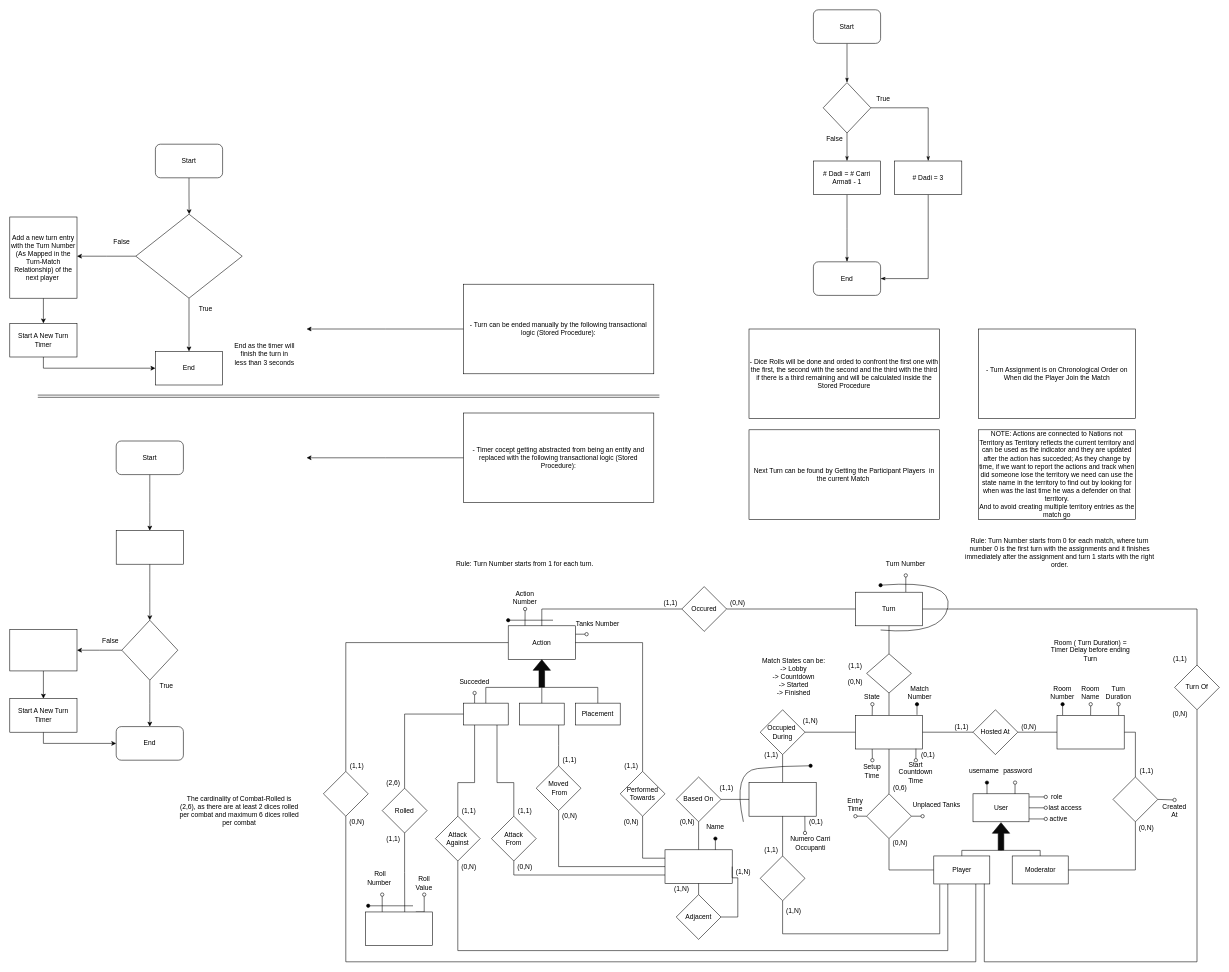
Image size: 1229x972. Some labels were removed from this diagram. Here are the shapes that lost their labels. From the top down, the centre of each, then its label:
At [847,107]: "# Carri Armati > 3".
At [188,256]: "Is difference between start-time and timer delay (For the timer) is < 3".
At [149,547]: "Wait For Delay (Turn Period)".
At [43,650]: "Create a new turn entry with the playerID of the next turn".
At [149,650]: "Check if the turn was passed".
At [888,673]: "Part Of".
At [485,714]: "Combat".
At [541,714]: "Movement".
At [889,732]: "Match".
At [1090,732]: "Room".
At [345,793]: "Performed By".
At [782,799]: "Territory (Ocuppied Nation)".
At [1135,799]: "Created".
At [888,816]: "Participate".
At [698,866]: "Nation".
At [782,878]: "Occupied By".
At [399,928]: "Dice Roll".
